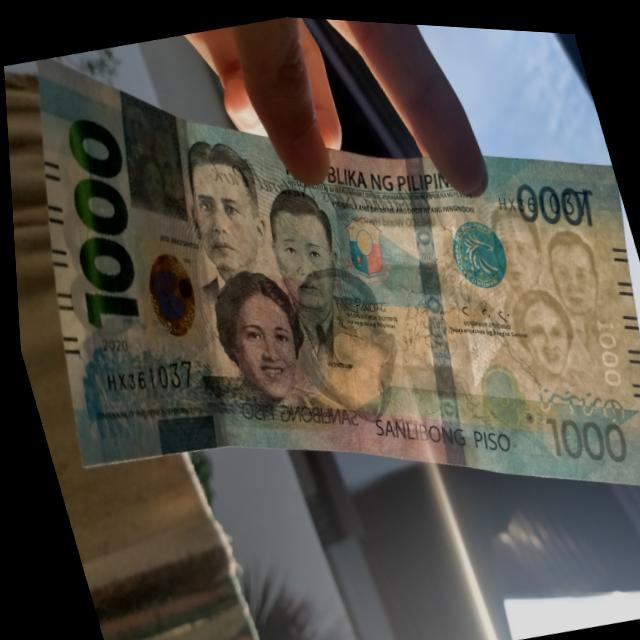concealed_value: (115, 85, 186, 224)
optically_variable_device: (129, 232, 204, 352)
security_thread: (398, 151, 458, 463)
see_through_mark: (525, 362, 626, 432)
serial_number: (87, 347, 195, 407)
value_watermark: (580, 303, 631, 389)
watermark: (474, 186, 623, 386)
